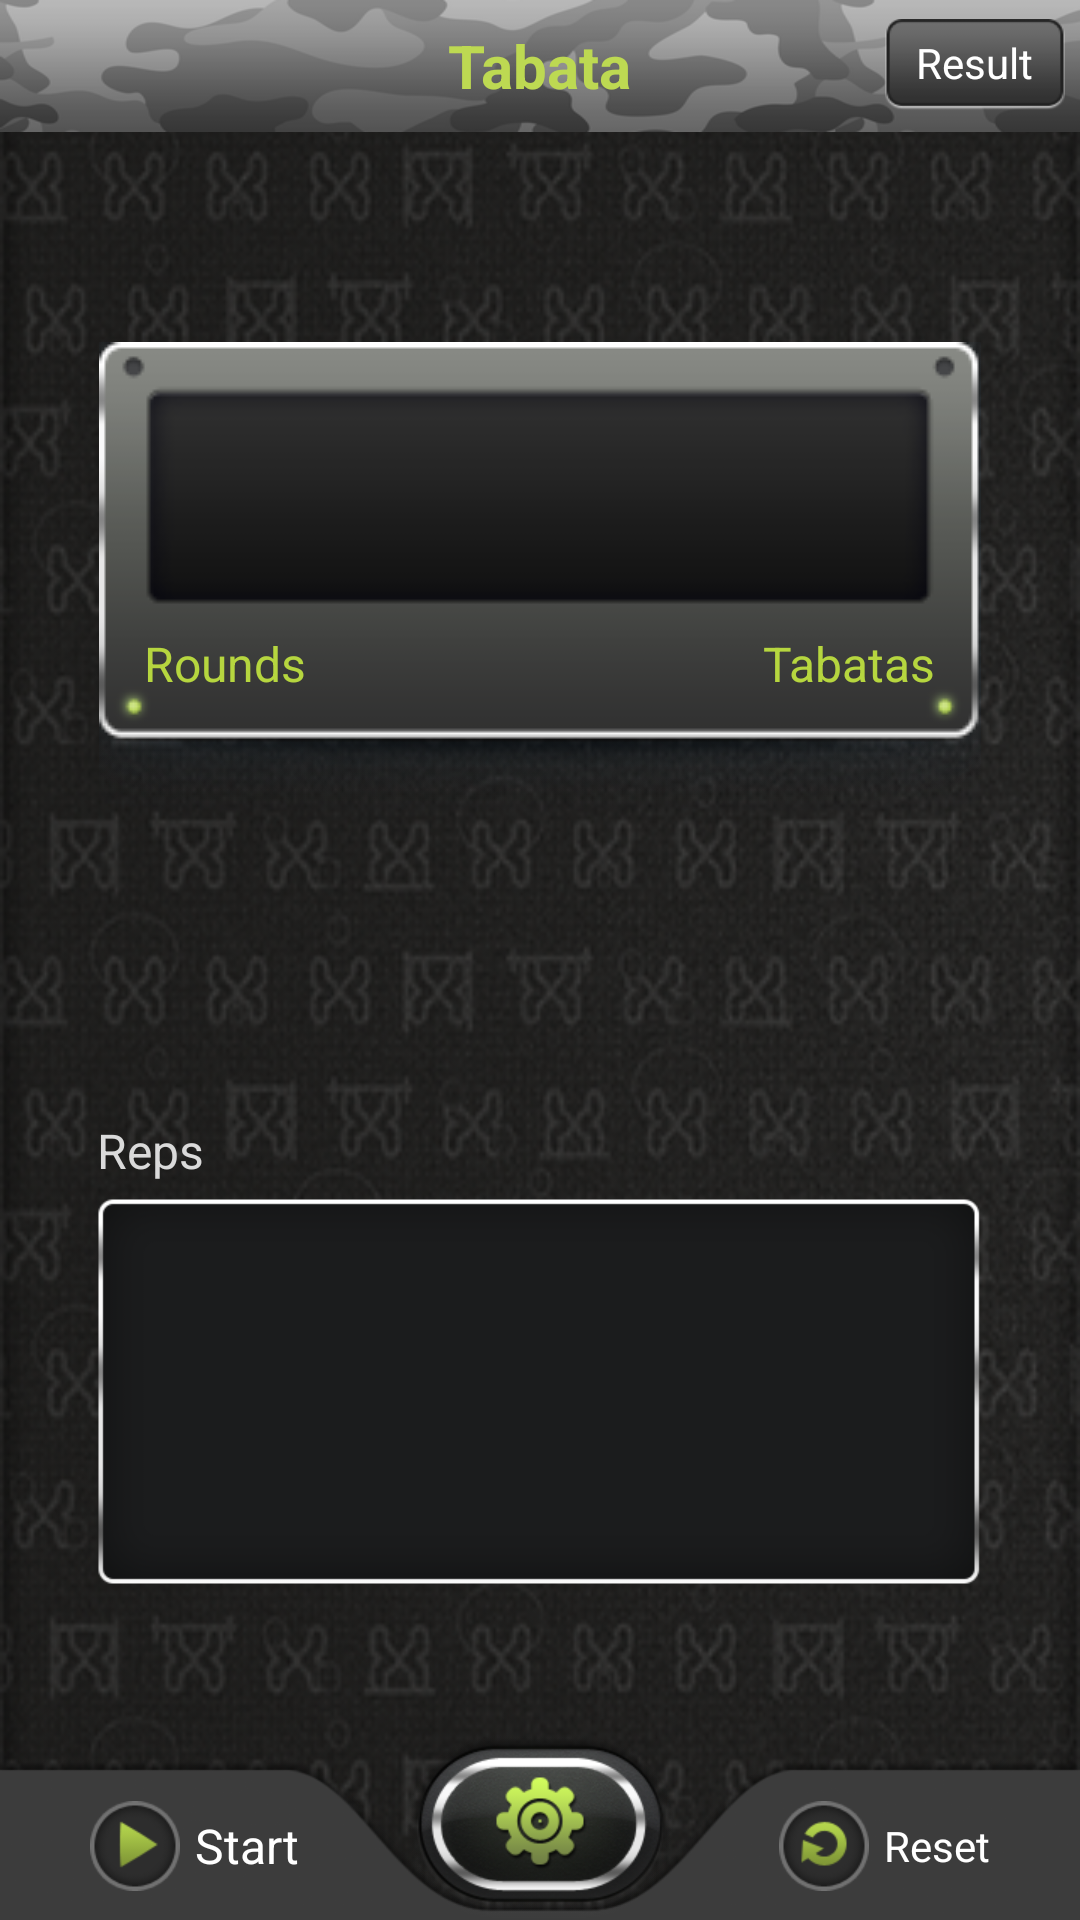

Named icons in this screenshot (1080px x 1920px) and their centers, (x=x, y=y):
setting: (x=540, y=1821)
